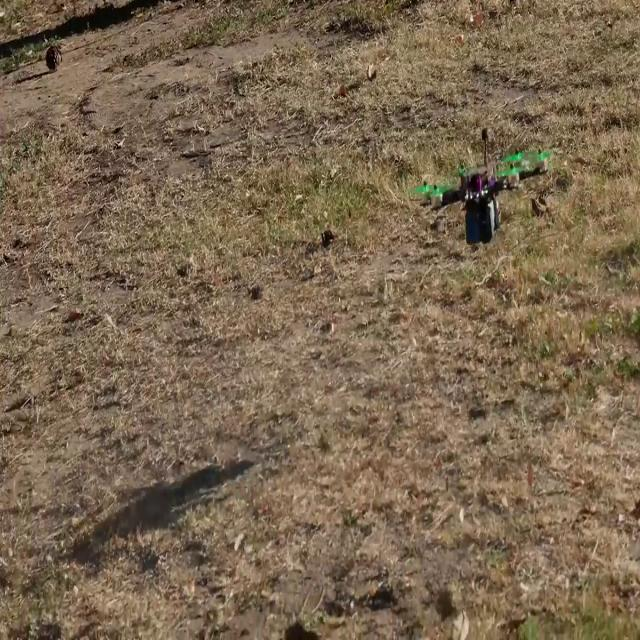drone: (414, 141, 557, 257)
